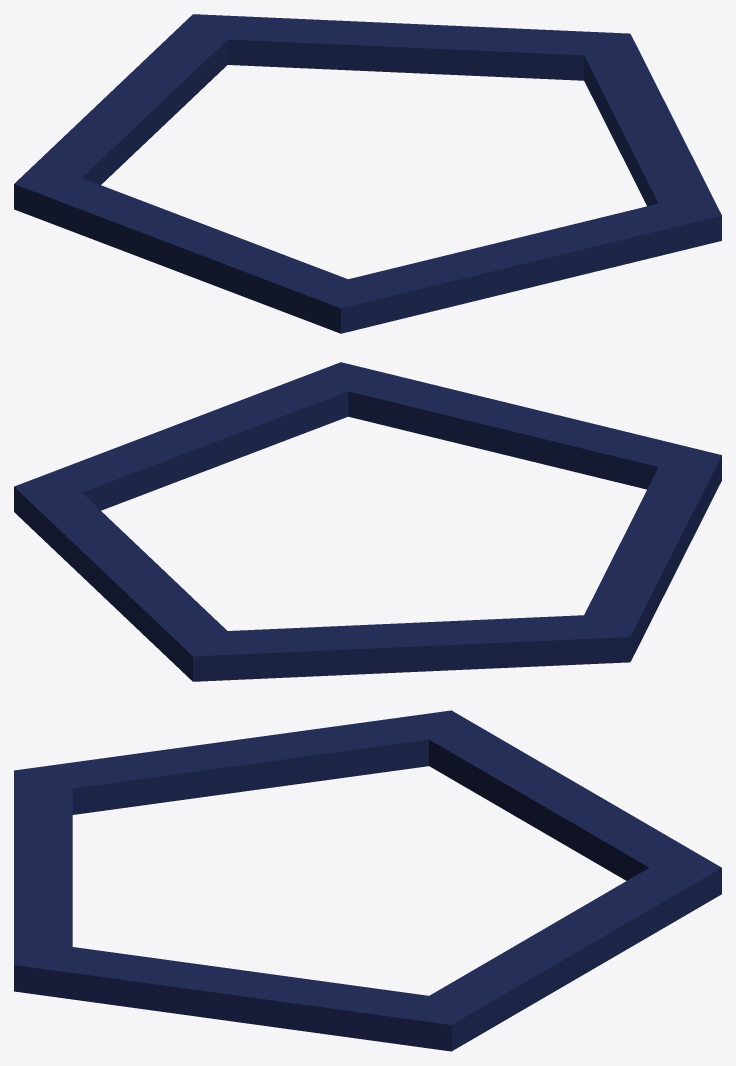
The model's file is tilePentagon.glb.
3 views of the same model, one above another, from view 1: azimuth 30°, elevation 25°; view 2: azimuth 150°, elevation 25°; view 3: azimuth 270°, elevation 25° (orthographic). The views are drawn at different scales.
Visible parts, largest first — view 1: TilePentagon; view 2: TilePentagon; view 3: TilePentagon.
Boxes of the visible parts, left/top/right/bottom form: TilePentagon: left=14, top=14, right=721, bottom=333; TilePentagon: left=14, top=362, right=721, bottom=681; TilePentagon: left=14, top=710, right=721, bottom=1051.
Size of the model in its own units: 0.7625 by 0.03 by 0.7252.
1 material, 1 textured.
